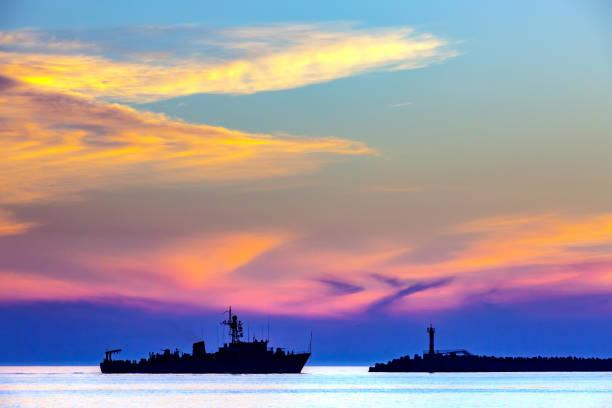MIL_Ship: (99, 303, 314, 376)
